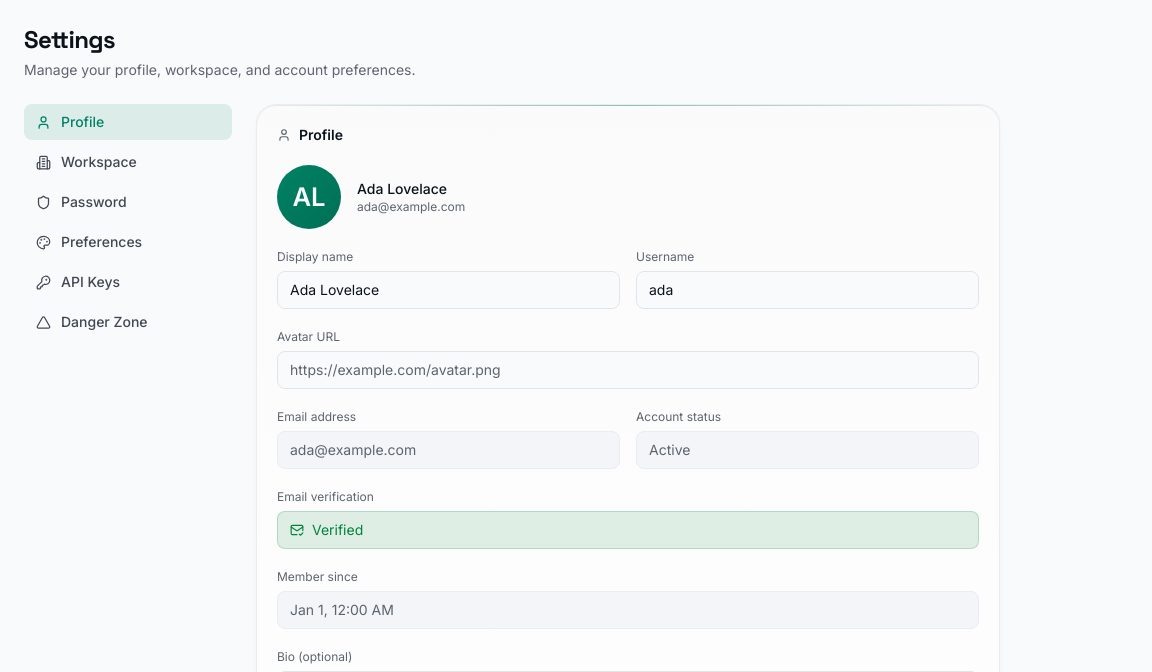
Test case: Settings — EP-22.2 backend integration › renders the API Keys section reusing the shared ApiKeysManager
The image size is (1152, 672).
What coordinates should you click on to do the following:
click the tab "API Keys"
I would click on:
 (128, 282)
Its box is [24,264,232,300].
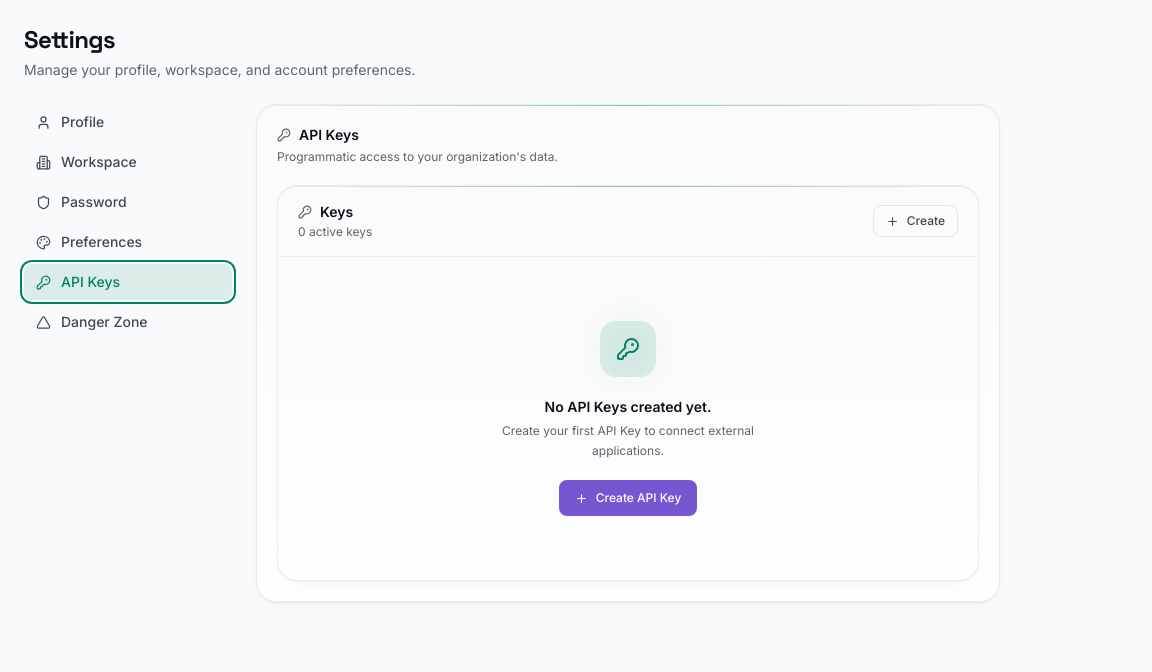
Expected: the text "No API Keys created yet." is shown, [544,397,711,417]
